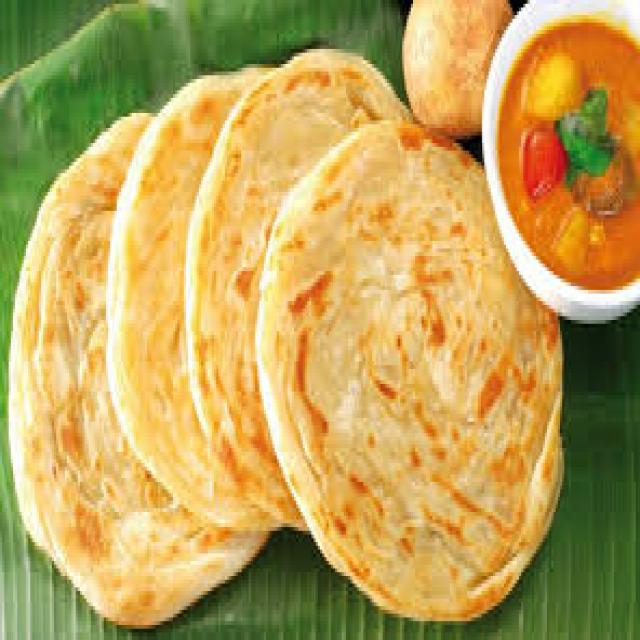Paratha: (236, 37, 638, 640), (36, 130, 266, 595), (204, 54, 416, 503), (109, 42, 262, 516)
